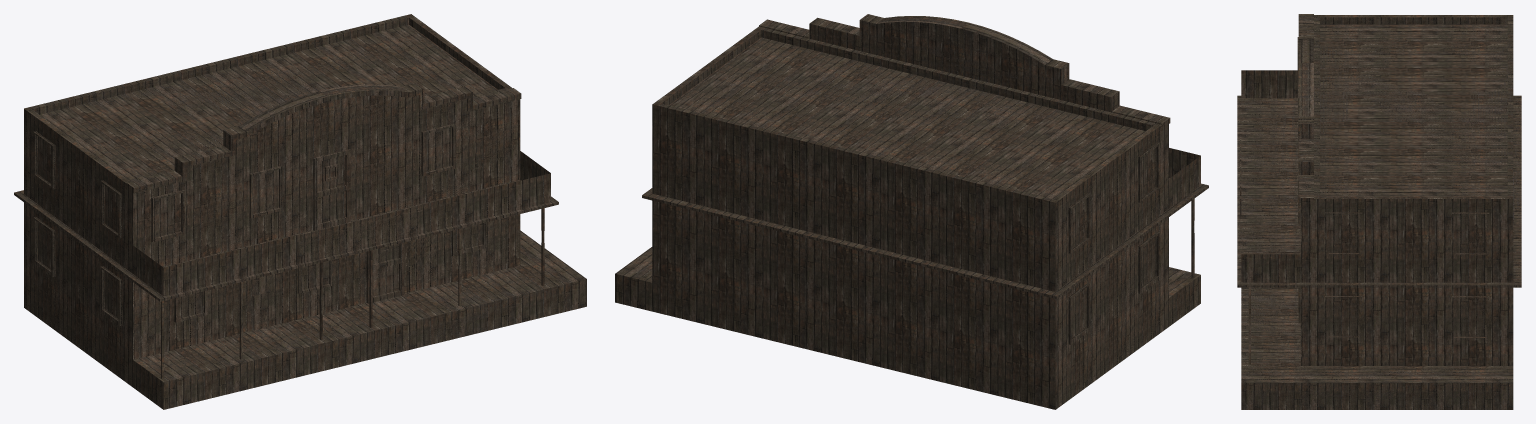
The model's file is House 6.fbx.
3 renders of one model, left to right at view 1: azimuth 30°, elevation 25°; view 2: azimuth 150°, elevation 25°; view 3: azimuth 270°, elevation 25°, orthographic. The views are drawn at different scales.
Parts seen in each view (by area): view 1: Model; view 2: Model; view 3: Model.
Boxes of the visible parts, x1=… form: Model: x1=14, y1=14, x2=586, y2=409; Model: x1=615, y1=14, x2=1208, y2=409; Model: x1=1237, y1=14, x2=1521, y2=409.
Size of the model in its own units: 91.12 by 49.63 by 53.75.
